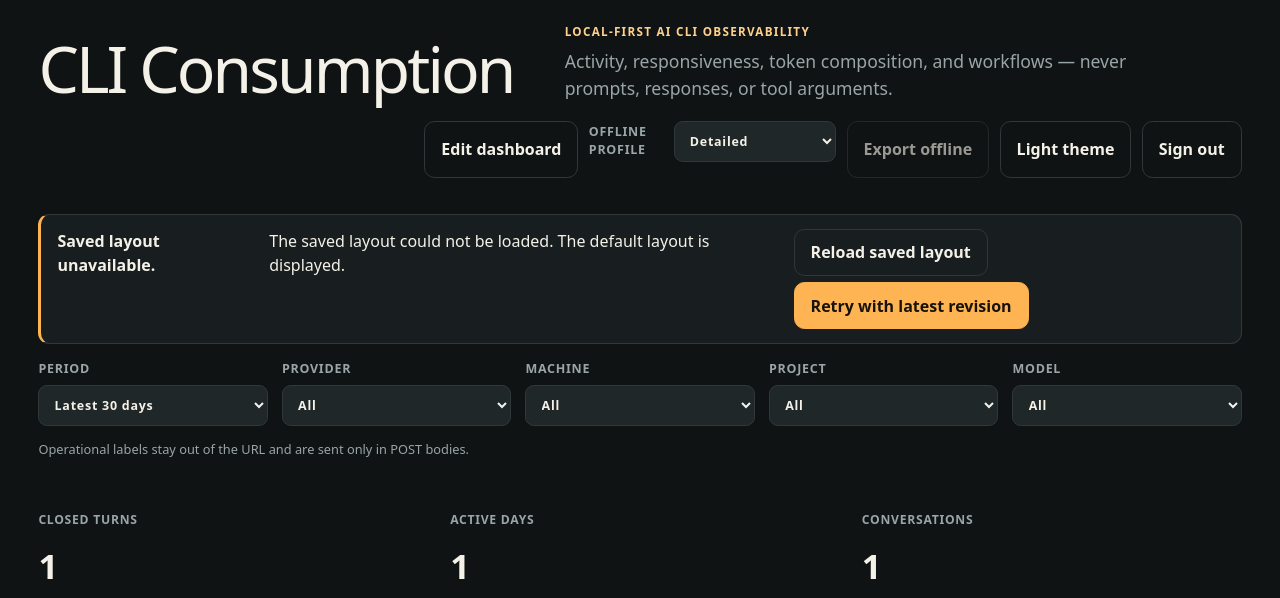
Test: persistent dashboard › announces a non-blocking default-layout fallback without reflecting upstream data
Check: the text "The saved layout could not be loaded. The default layout is displayed." shows "Saved layout unavailable.", box x1=57 y1=230 x2=160 y2=276
Check: the button "Reload saved layout" is enabled, box x1=794 y1=229 x2=988 y2=276
What coordinates should you click on to do the following:
click the button "Edit dashboard"
I would click on:
 (501, 149)
Its box is x1=424 y1=121 x2=578 y2=178.
(page scrolled)
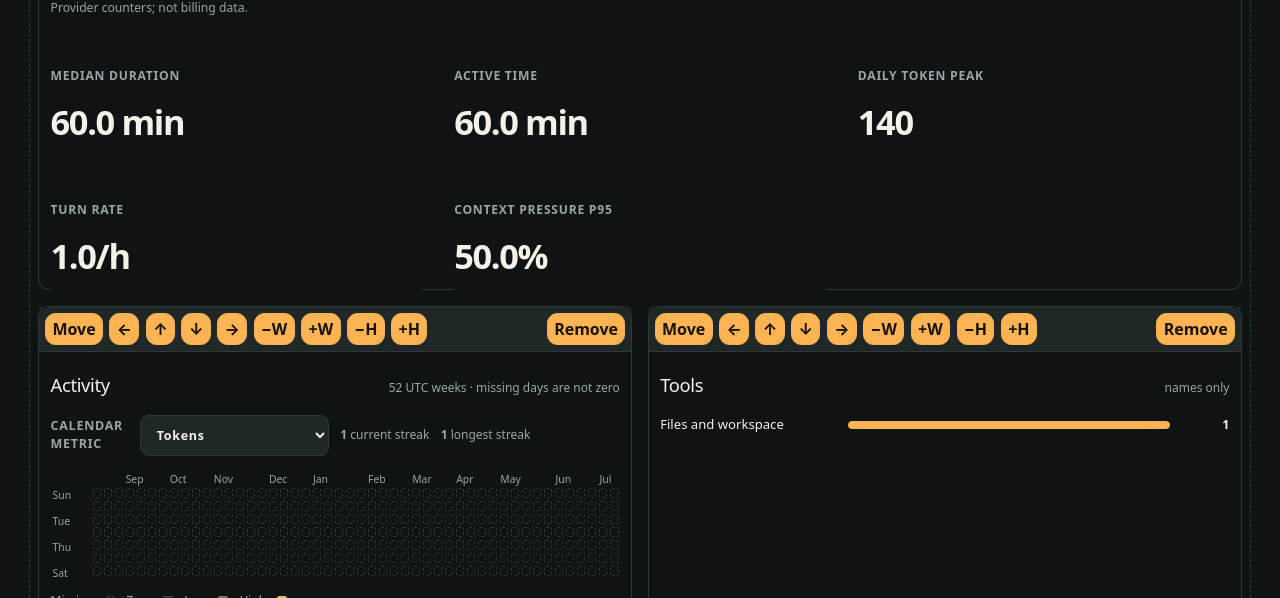
What coordinates should you click on to do the following:
click the button with aria-label "Remove Tools"
I would click on:
 (1196, 329)
Its box is x1=1156 y1=313 x2=1235 y2=346.
(page scrolled)
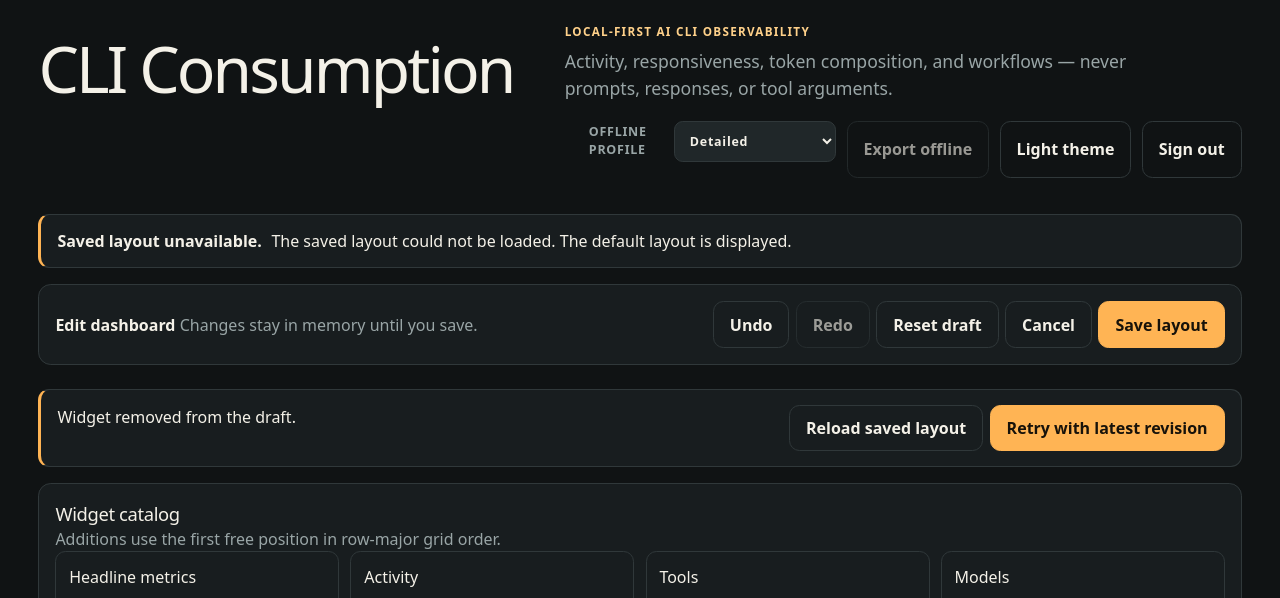
What coordinates should you click on to do the following:
click the button "Save layout"
I would click on:
 (1162, 325)
Its box is x1=1098 y1=302 x2=1225 y2=348.
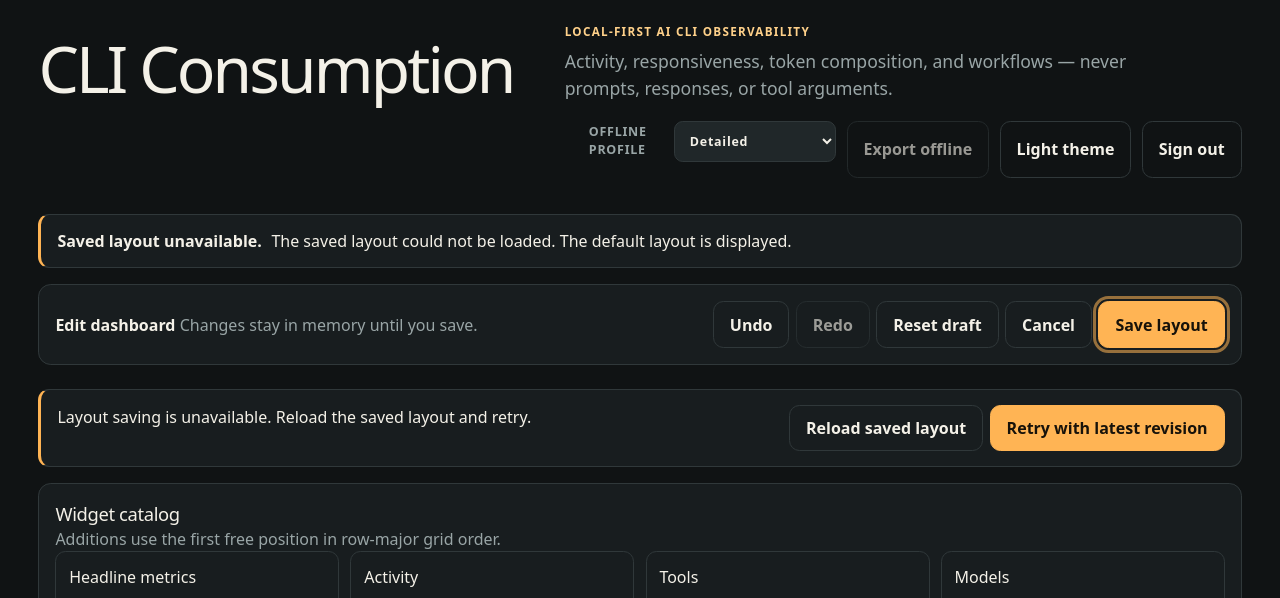
Check: the text "Layout saving is unavailable. Reload the saved layout and retry." is shown, box x1=57 y1=406 x2=531 y2=428
What coordinates should you click on to do the following:
click the button "Retry with latest revision"
I would click on:
 (1107, 428)
Its box is x1=990 y1=405 x2=1225 y2=451.
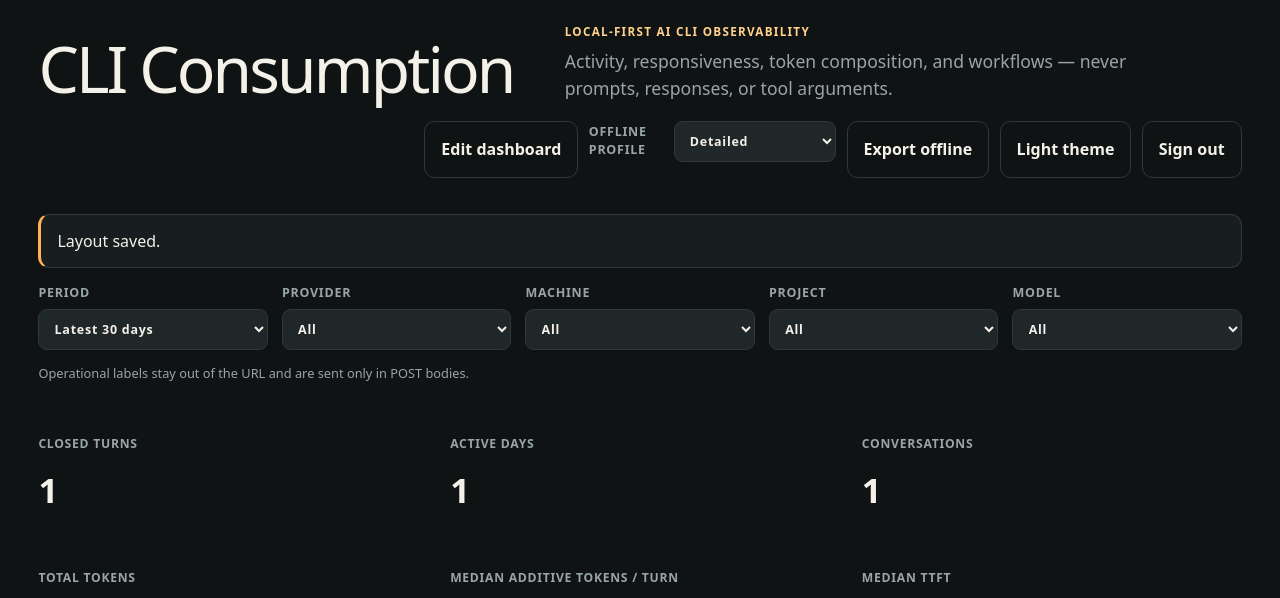
Check: the text "Layout saved." is shown, box x1=57 y1=229 x2=160 y2=253
